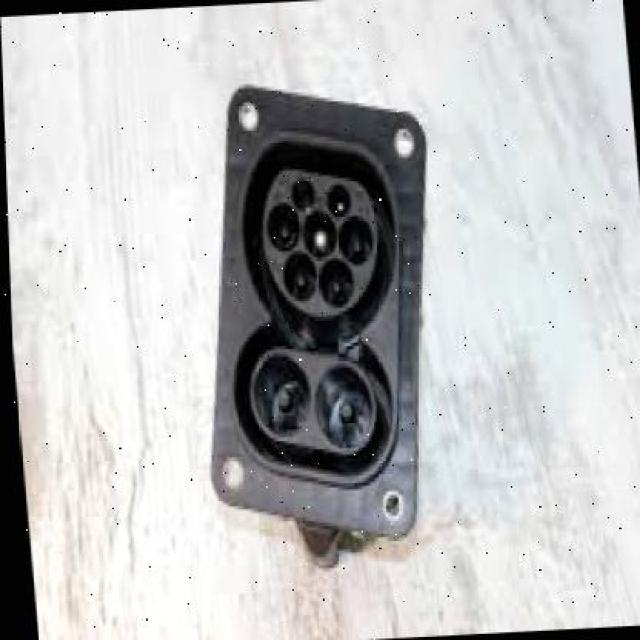CCS2: (184, 143, 455, 516)
